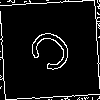C: (25, 25, 83, 83)
